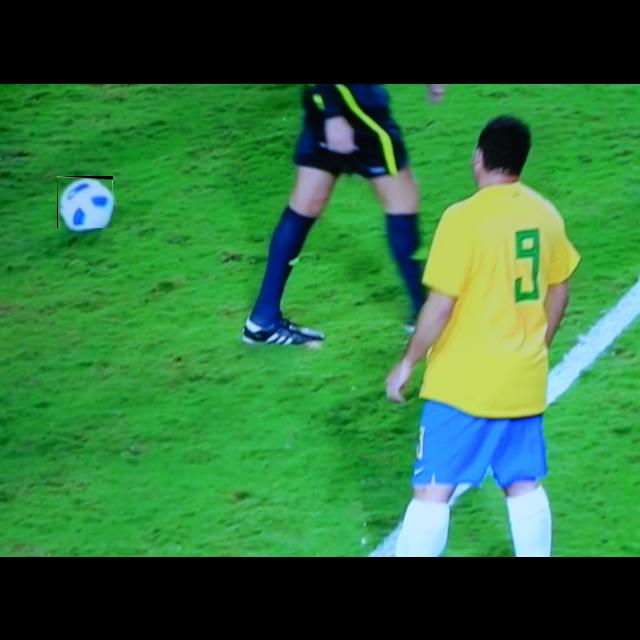Football: (57, 176, 113, 228)
